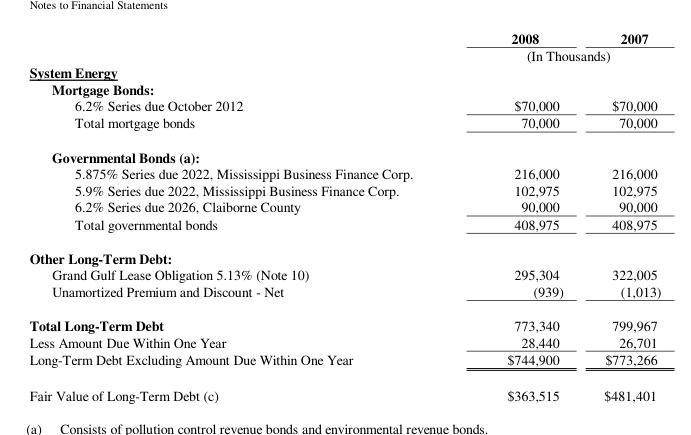table: (28, 28, 660, 403)
table column: (28, 28, 459, 403), (459, 28, 583, 403), (583, 28, 660, 403)
table column header: (28, 28, 660, 63)
table projected row header: (28, 240, 660, 266), (28, 139, 660, 164), (28, 63, 660, 80), (28, 80, 660, 97)
table row: (28, 349, 660, 376), (28, 376, 660, 403), (28, 113, 660, 139), (28, 214, 660, 240), (28, 240, 660, 266), (28, 307, 660, 333), (28, 139, 660, 164), (28, 282, 660, 307), (28, 28, 660, 46), (28, 46, 660, 63), (28, 63, 660, 80), (28, 80, 660, 97), (28, 180, 660, 197), (28, 197, 660, 214), (28, 97, 660, 113), (28, 164, 660, 180), (28, 266, 660, 282), (28, 333, 660, 349)
table spanning cell: (459, 46, 660, 63)
